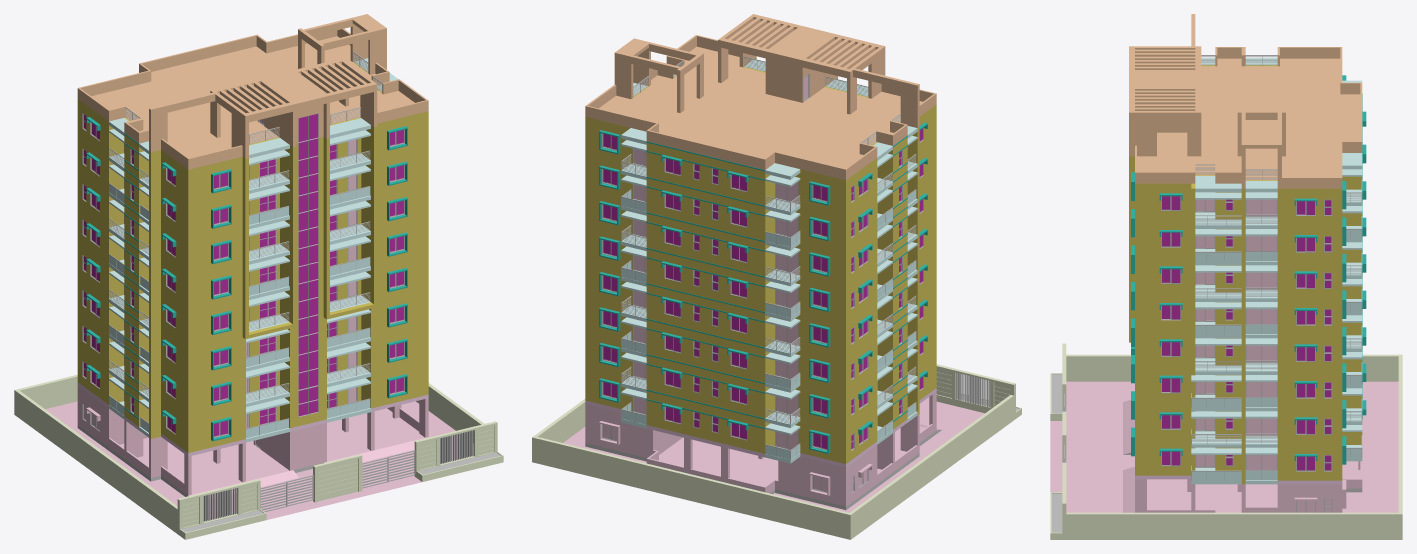
Rendered from Apartment_Building_17_obj.gltf.
The picture shows the model from 3 angles, left to right: view 1: azimuth 30°, elevation 25°; view 2: azimuth 150°, elevation 25°; view 3: azimuth 270°, elevation 25°; orthographic projection. The views are drawn at different scales.
Visible parts, largest first — view 1: AB17_OBJ_01, AB17_OBJ_15, AB17_OBJ_03, AB17_OBJ_09, AB17_OBJ_19, AB17_OBJ_13, AB17_OBJ_07, AB17_OBJ_06, AB17_OBJ_12, AB17_OBJ_08, AB17_OBJ_11, AB17_OBJ_10 (+2 smaller); view 2: AB17_OBJ_04, AB17_OBJ_15, AB17_OBJ_03, AB17_OBJ_11, AB17_OBJ_12, AB17_OBJ_09, AB17_OBJ_08, AB17_OBJ_06, AB17_OBJ_13, AB17_OBJ_10, AB17_OBJ_07, AB17_OBJ_05 (+3 smaller); view 3: AB17_OBJ_02, AB17_OBJ_15, AB17_OBJ_11, AB17_OBJ_13, AB17_OBJ_12, AB17_OBJ_09, AB17_OBJ_10, AB17_OBJ_08, AB17_OBJ_06, AB17_OBJ_04, AB17_OBJ_07, AB17_OBJ_01 (+2 smaller).
Part boxes in pixels (x1,y1,x2,y2): AB17_OBJ_01: (187,111,428,452); AB17_OBJ_15: (77,14,428,169); AB17_OBJ_03: (78,100,187,451); AB17_OBJ_09: (82,113,404,437); AB17_OBJ_19: (246,118,370,442); AB17_OBJ_13: (45,401,473,519); AB17_OBJ_07: (177,421,503,539); AB17_OBJ_06: (77,386,428,495); AB17_OBJ_12: (14,374,484,533); AB17_OBJ_08: (86,117,407,441); AB17_OBJ_11: (109,58,397,437); AB17_OBJ_10: (124,139,357,428); AB17_OBJ_04: (585,117,846,463); AB17_OBJ_15: (585,14,936,180); AB17_OBJ_03: (847,105,935,462); AB17_OBJ_11: (621,74,917,463); AB17_OBJ_12: (532,395,1013,539); AB17_OBJ_09: (602,127,923,451); AB17_OBJ_08: (599,122,927,453); AB17_OBJ_06: (585,392,936,506); AB17_OBJ_13: (563,397,984,512); AB17_OBJ_10: (632,148,877,450); AB17_OBJ_07: (936,364,1021,419); AB17_OBJ_05: (585,388,936,467); AB17_OBJ_02: (1137,175,1340,484); AB17_OBJ_15: (1129,14,1362,188); AB17_OBJ_11: (1191,58,1362,484); AB17_OBJ_13: (1050,381,1398,512); AB17_OBJ_12: (1066,354,1402,539); AB17_OBJ_09: (1161,196,1332,471); AB17_OBJ_10: (1195,199,1277,469); AB17_OBJ_08: (1131,75,1366,464); AB17_OBJ_06: (1135,461,1362,512); AB17_OBJ_04: (1340,176,1362,480); AB17_OBJ_07: (1050,343,1066,539); AB17_OBJ_01: (1129,156,1136,475).
Size of the model in its own units: 1128 by 1260 by 1050.
